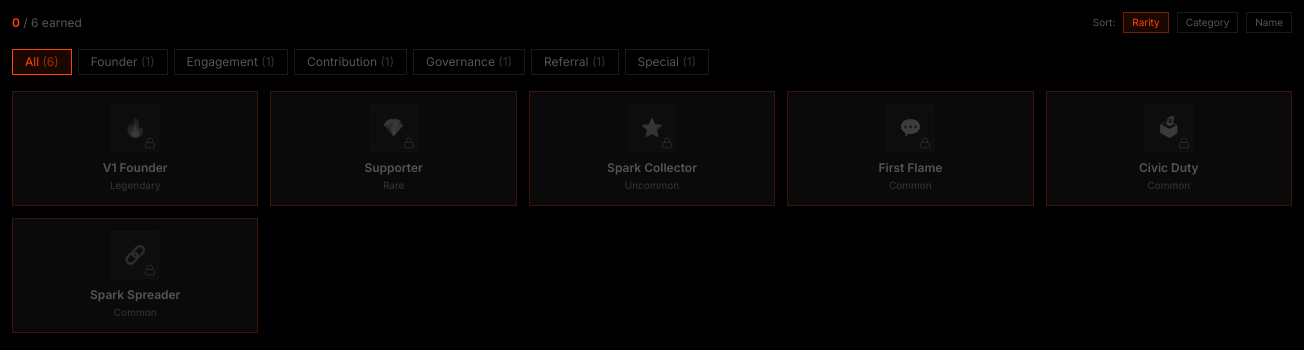
Test: BadgeGallery › filters by category when tab clicked
// Click "Founder" category tab (matches "Founder (1)" button text)
Click the button "Founder (1)" at {"x": 123, "y": 62}, box [78,49,168,75]
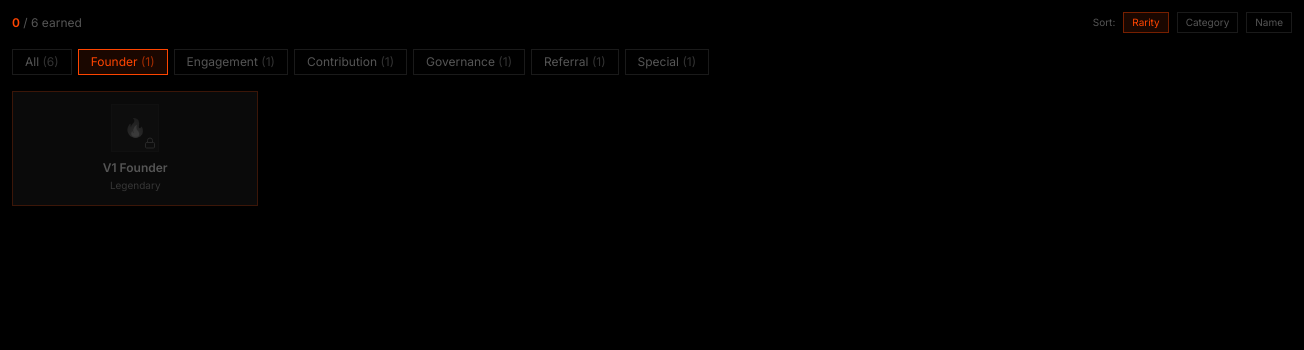
Check: the text "V1 Founder" is shown, box [103,160,168,175]
Check: the text "First Flame" is gone
